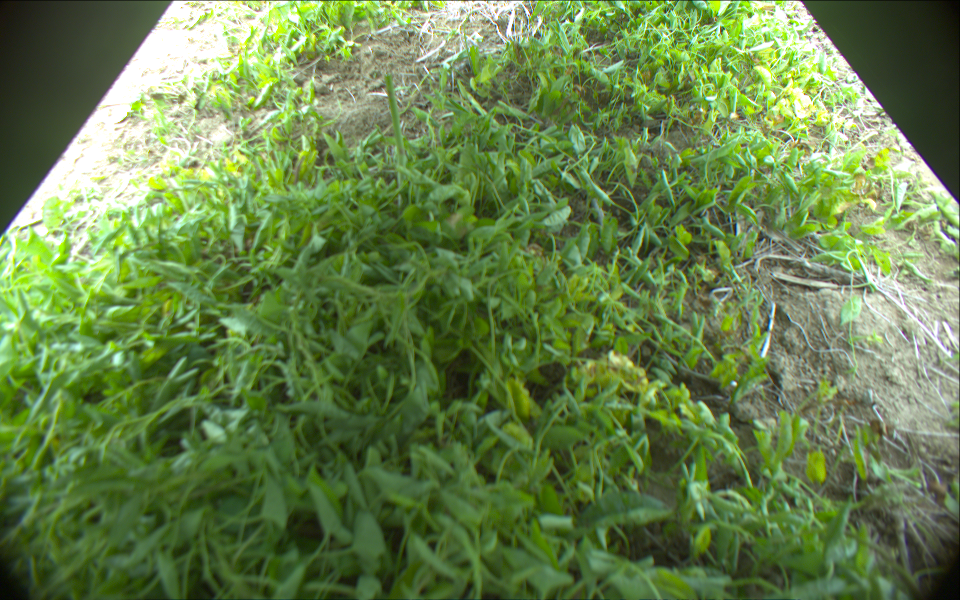aspa: (384, 73, 408, 199)
